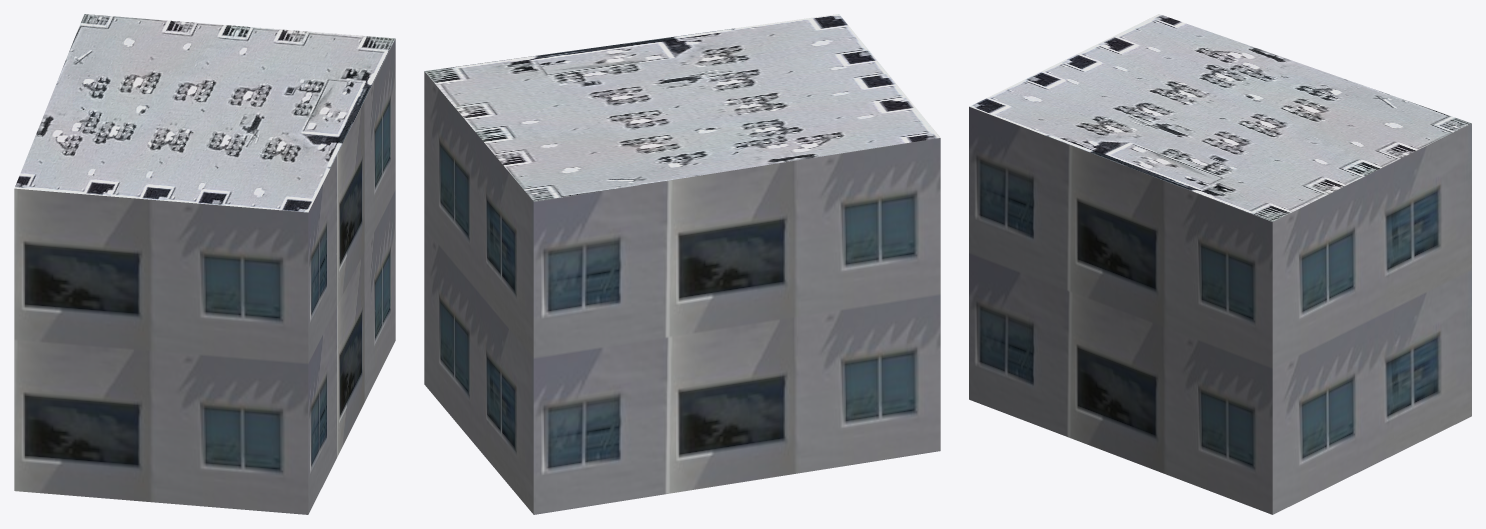
File: ResTex__2920.fbx
3 renders of one model, left to right at view 1: azimuth 30°, elevation 25°; view 2: azimuth 150°, elevation 25°; view 3: azimuth 270°, elevation 25°, orthographic. The views are drawn at different scales.
Parts seen in each view (by area): view 1: CityEngineMaterial_10_m, CityEngineMaterial_8_m; view 2: CityEngineMaterial_10_m, CityEngineMaterial_8_m; view 3: CityEngineMaterial_10_m, CityEngineMaterial_8_m.
Part boxes in pixels (<box>): CityEngineMaterial_10_m: <box>14,39,395,514</box>; CityEngineMaterial_8_m: <box>14,14,395,212</box>; CityEngineMaterial_10_m: <box>424,71,940,514</box>; CityEngineMaterial_8_m: <box>424,14,940,201</box>; CityEngineMaterial_10_m: <box>969,106,1471,514</box>; CityEngineMaterial_8_m: <box>969,14,1471,221</box>.
Size of the model in its own units: 9.13 by 6 by 9.33.
2 materials, 2 textured.
